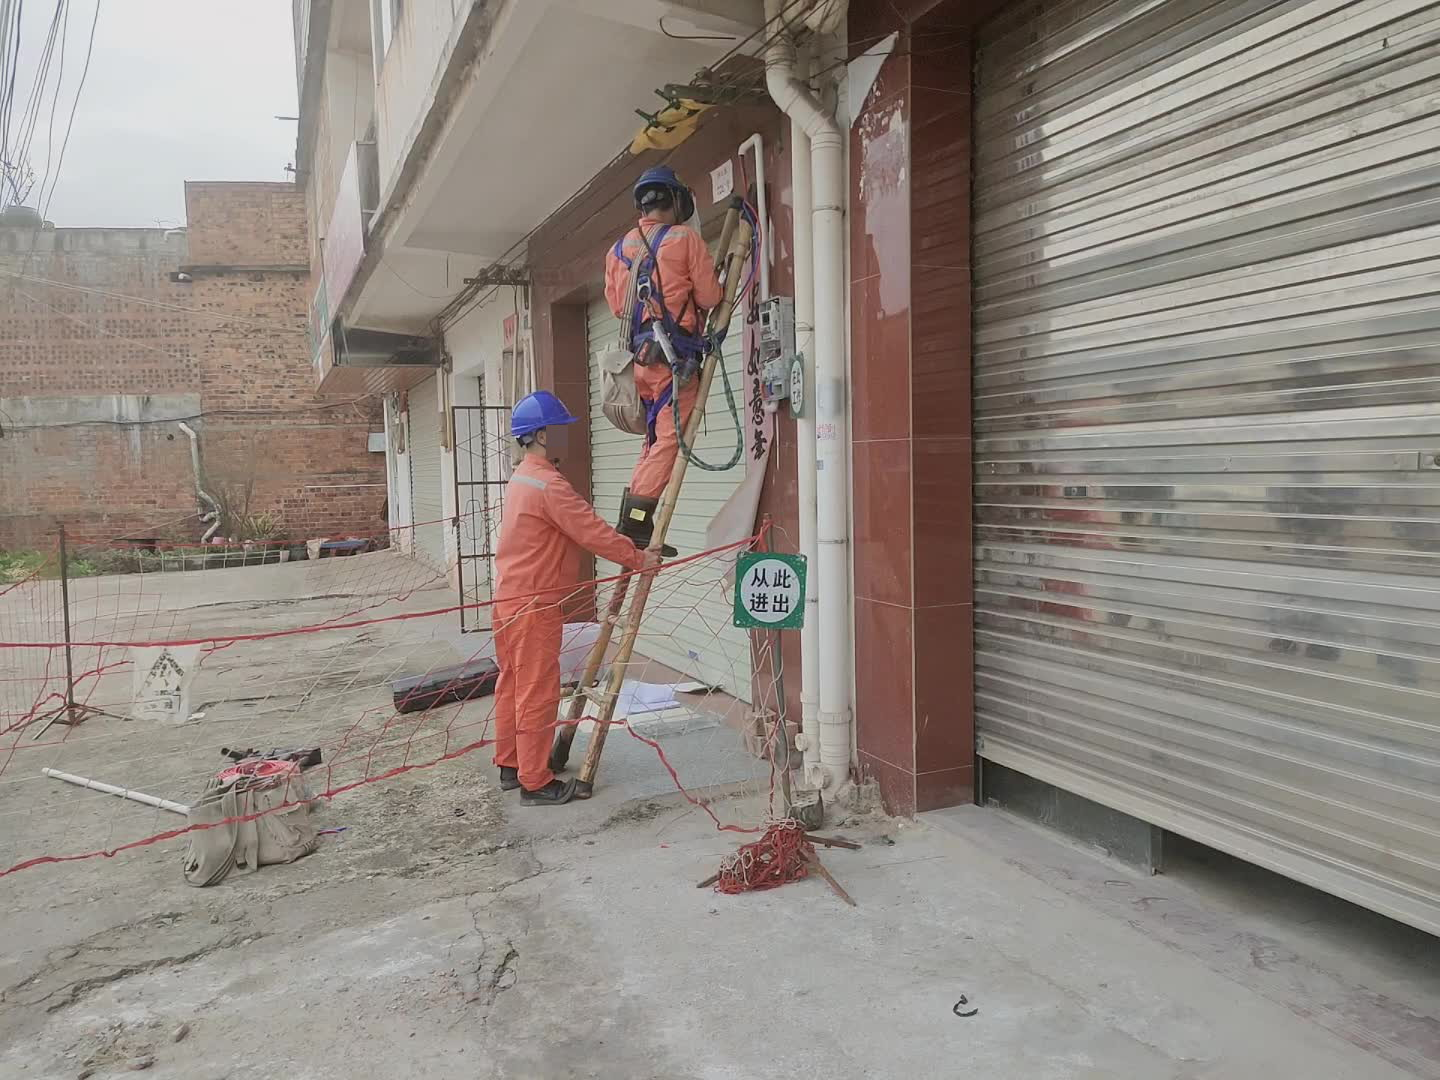halt: (509, 390, 580, 456), (632, 168, 690, 225)
hand: (632, 543, 664, 578)
inear: (532, 427, 558, 456)
intosign: (730, 551, 809, 627)
person: (483, 382, 630, 797), (605, 164, 727, 530)
safebelt: (616, 225, 759, 473)
shoe: (614, 484, 682, 560)
support: (483, 389, 682, 811)
worksign: (788, 354, 807, 419)
ydownsuit: (493, 619, 566, 776), (629, 368, 696, 503)
yupsuit: (496, 465, 635, 612), (603, 215, 723, 352)
